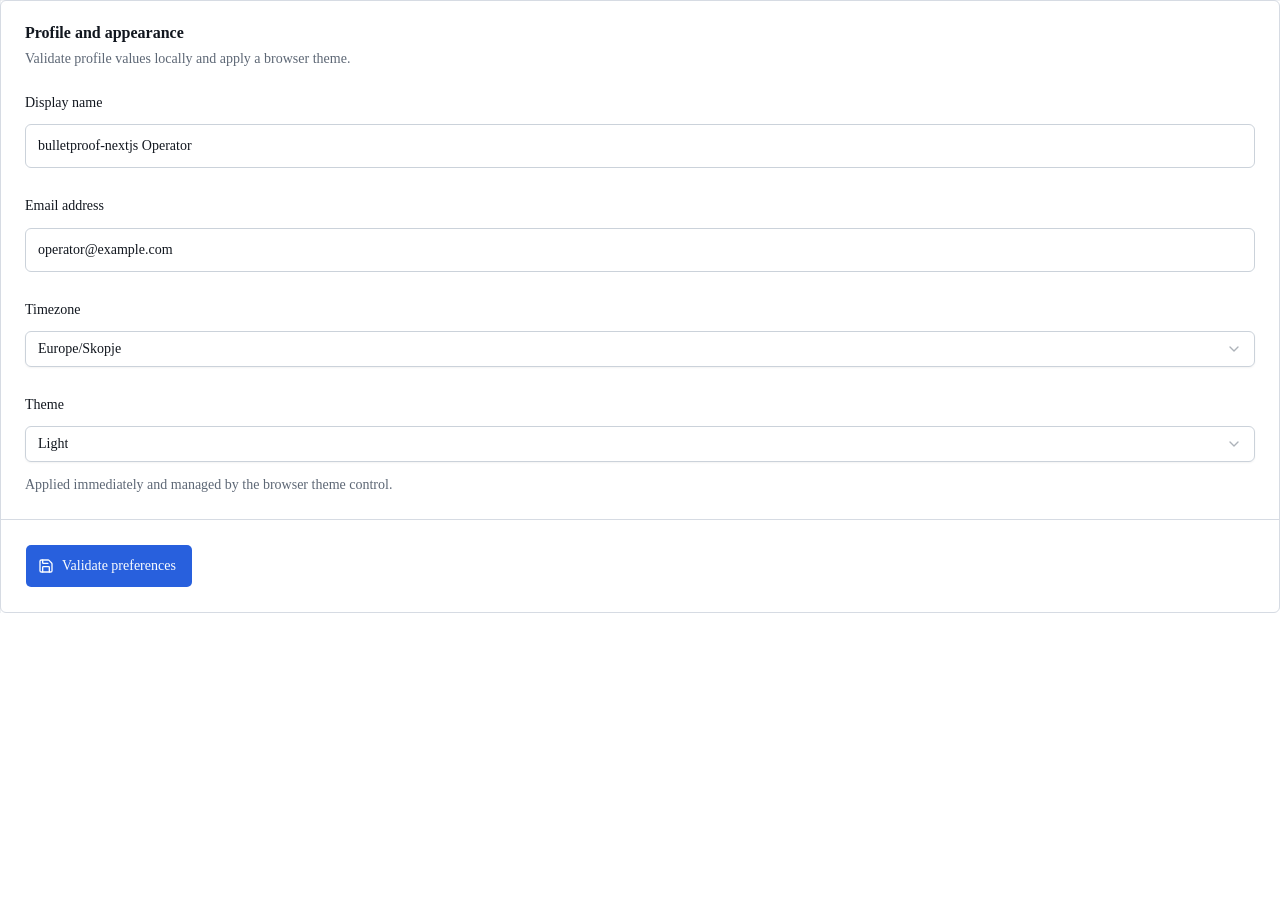
SettingsForm › focuses the first invalid profile field and shows a summary
The width and height of the screenshot is (1280, 900).
Clear the field labelled "Display name" at (640, 146), box [25, 124, 1255, 168]
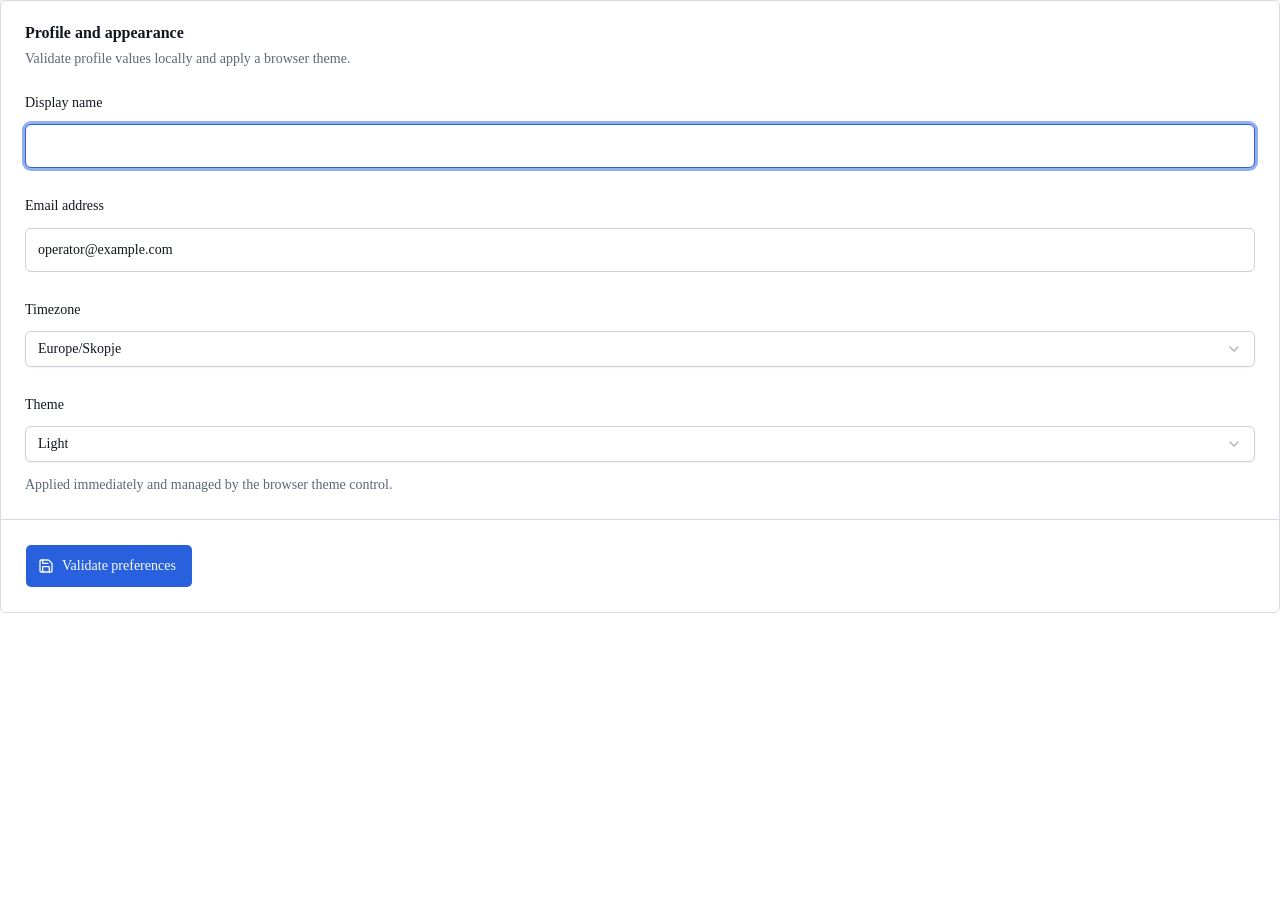
Clear the field labelled "Email address" at (640, 250), box [25, 228, 1255, 272]
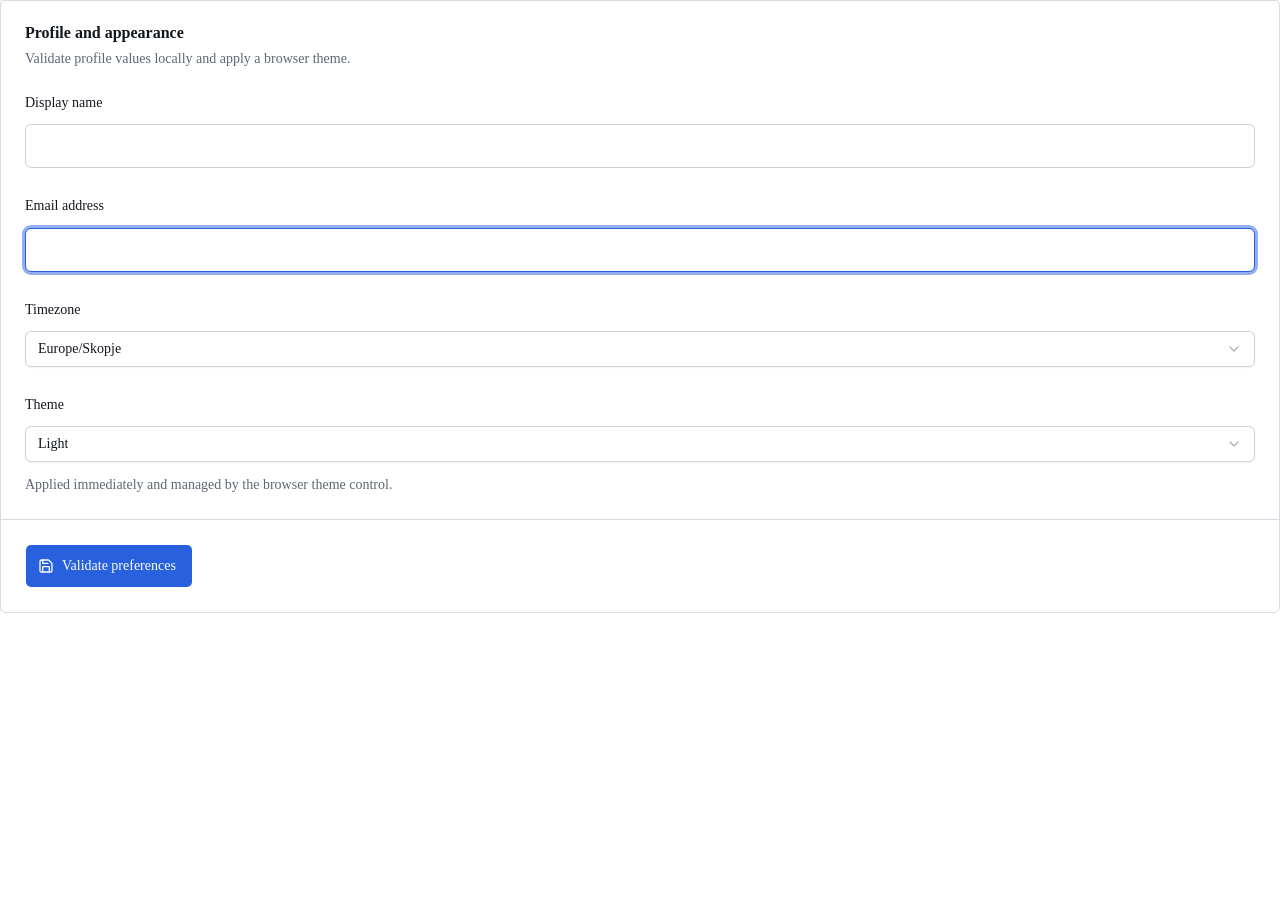
Click the button "Validate preferences".
click(109, 566)  # box [25, 544, 193, 588]
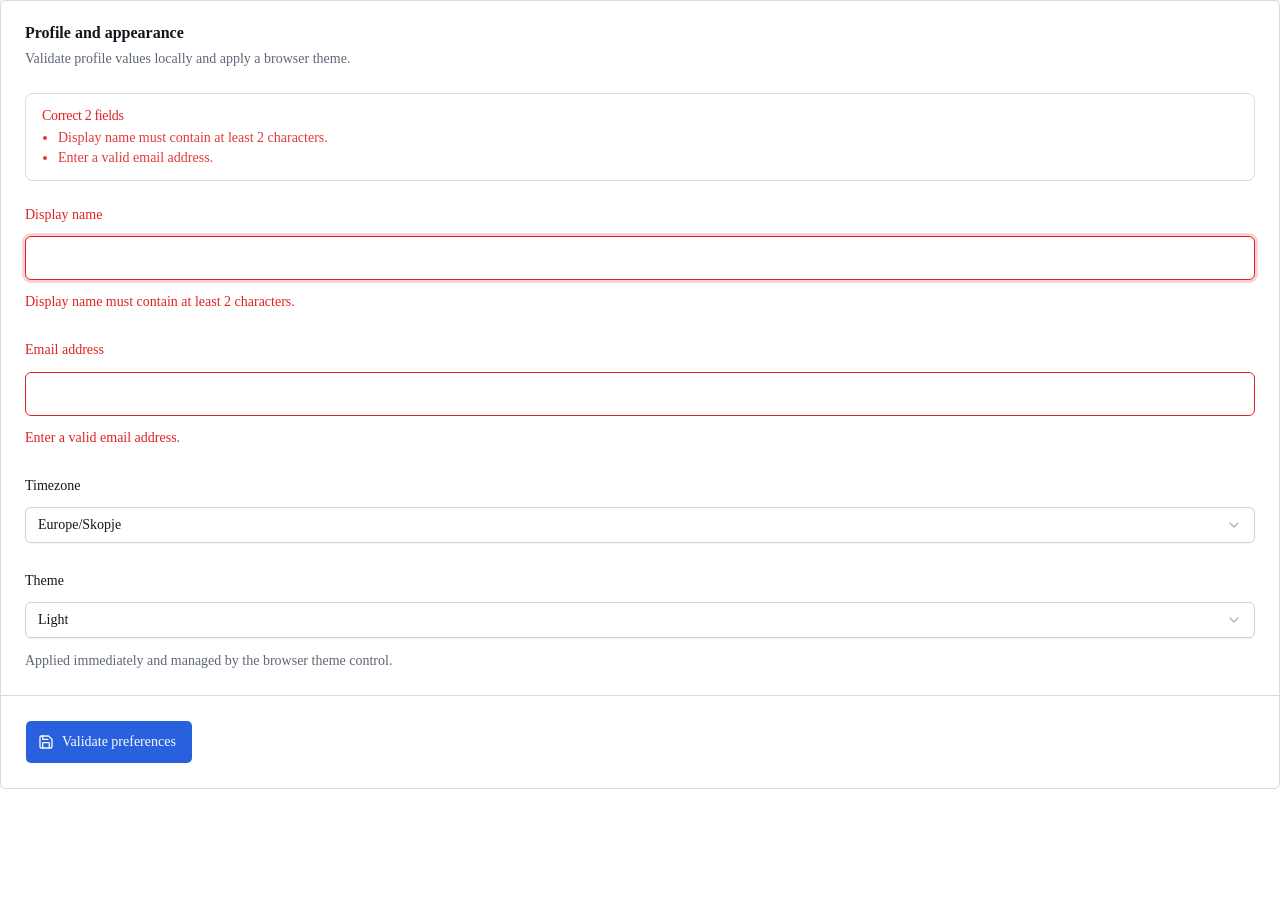
Expected: the message "Correct 2 fields" is shown, [25, 93, 1255, 181]
